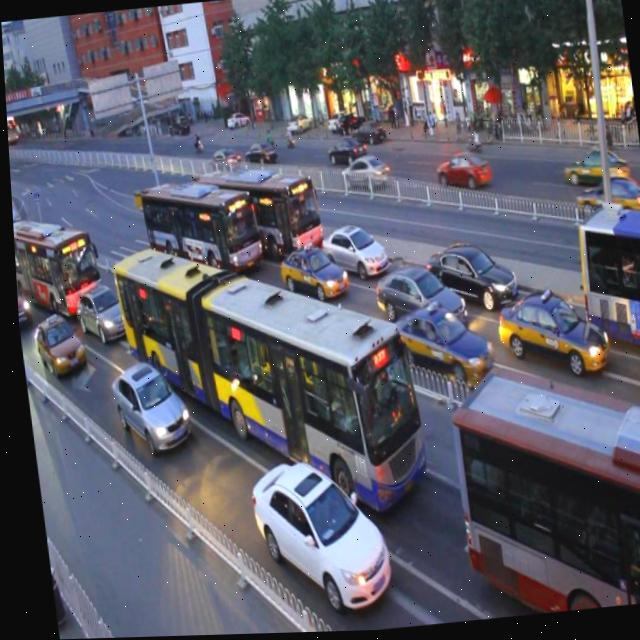car: (240, 451, 388, 622), (489, 282, 608, 389), (383, 302, 490, 389), (103, 357, 187, 459), (366, 256, 462, 345), (422, 234, 516, 315), (271, 236, 345, 307), (313, 214, 384, 286), (68, 280, 131, 346), (28, 310, 84, 381), (13, 274, 31, 335), (638, 332, 640, 418)
van: (104, 218, 428, 535), (439, 355, 640, 622), (134, 166, 262, 290), (192, 153, 323, 268), (567, 202, 640, 358), (10, 205, 99, 312)
